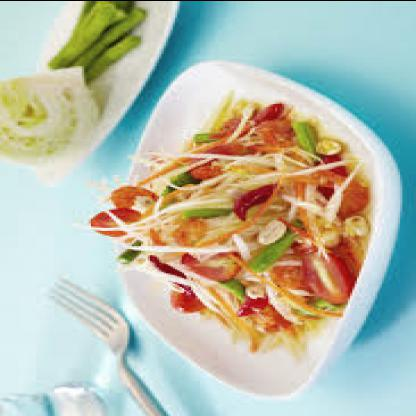Papaya Salad: (113, 84, 398, 356)
